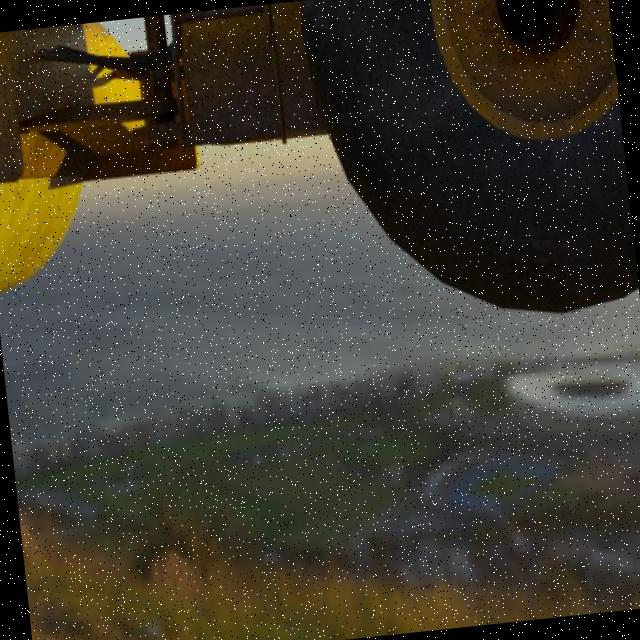Roller: (0, 0, 640, 374)
